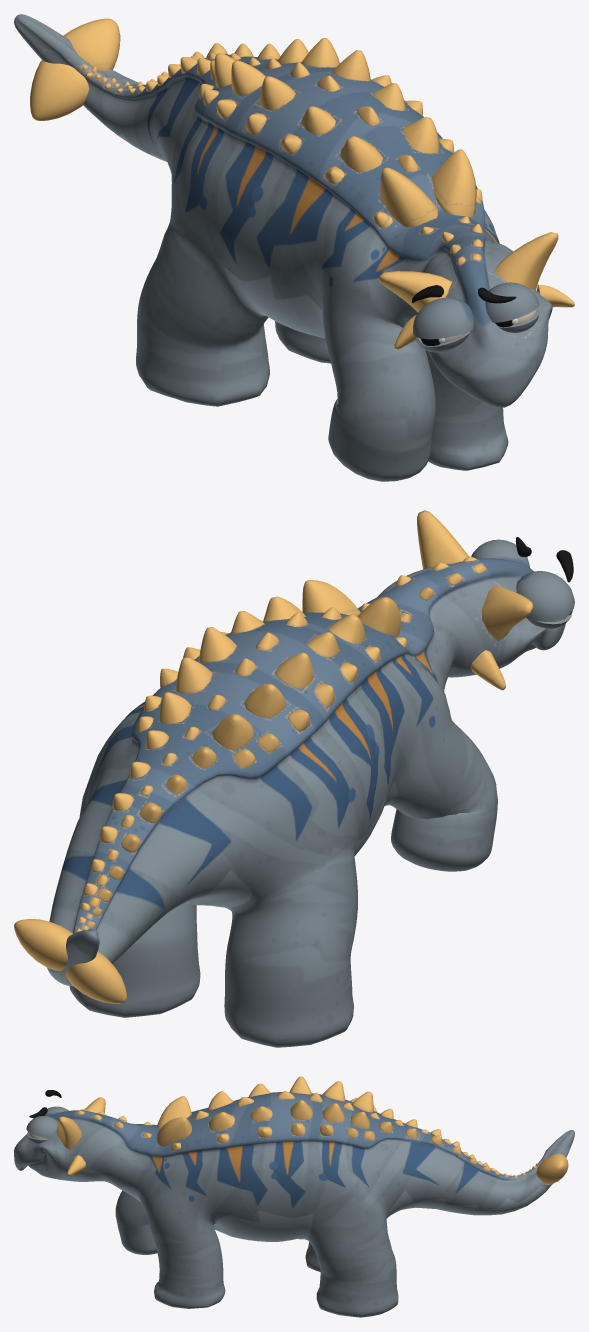
The model's file is ankylo.glb.
The picture shows the model from 3 angles, top to bottom: view 1: azimuth 30°, elevation 25°; view 2: azimuth 150°, elevation 25°; view 3: azimuth 270°, elevation 25°; orthographic projection. The views are drawn at different scales.
Parts seen in each view (by area): view 1: Ankylo_Unity_pose_v01:Ankylo_Rig_017:body_High1, Ankylo_Unity_pose_v01:Ankylo_Rig_017:horns_Geo_high1, Ankylo_Unity_pose_v01:Ankylo_Rig_017:rt_upLid_low1, Ankylo_Unity_pose_v01:Ankylo_Rig_017:lf_upLid_low1; view 2: Ankylo_Unity_pose_v01:Ankylo_Rig_017:body_High1, Ankylo_Unity_pose_v01:Ankylo_Rig_017:horns_Geo_high1, Ankylo_Unity_pose_v01:Ankylo_Rig_017:rt_upLid_low1, Ankylo_Unity_pose_v01:Ankylo_Rig_017:lf_upLid_low1; view 3: Ankylo_Unity_pose_v01:Ankylo_Rig_017:body_High1, Ankylo_Unity_pose_v01:Ankylo_Rig_017:horns_Geo_high1, Ankylo_Unity_pose_v01:Ankylo_Rig_017:lf_upLid_low1.
Part boxes in pixels (box(x1,y1,x2,y2)): Ankylo_Unity_pose_v01:Ankylo_Rig_017:body_High1: box(14, 14, 552, 481); Ankylo_Unity_pose_v01:Ankylo_Rig_017:horns_Geo_high1: box(30, 18, 574, 349); Ankylo_Unity_pose_v01:Ankylo_Rig_017:rt_upLid_low1: box(413, 297, 473, 339); Ankylo_Unity_pose_v01:Ankylo_Rig_017:lf_upLid_low1: box(485, 282, 539, 322); Ankylo_Unity_pose_v01:Ankylo_Rig_017:body_High1: box(47, 558, 565, 1047); Ankylo_Unity_pose_v01:Ankylo_Rig_017:horns_Geo_high1: box(14, 510, 533, 1003); Ankylo_Unity_pose_v01:Ankylo_Rig_017:rt_upLid_low1: box(516, 571, 574, 621); Ankylo_Unity_pose_v01:Ankylo_Rig_017:lf_upLid_low1: box(471, 539, 529, 567); Ankylo_Unity_pose_v01:Ankylo_Rig_017:body_High1: box(14, 1092, 574, 1317); Ankylo_Unity_pose_v01:Ankylo_Rig_017:horns_Geo_high1: box(57, 1076, 568, 1185); Ankylo_Unity_pose_v01:Ankylo_Rig_017:lf_upLid_low1: box(26, 1116, 57, 1138).
Bounding box in the file's own units: 0.57 × 0.7086 × 1.82.
2 materials, 2 textured.
